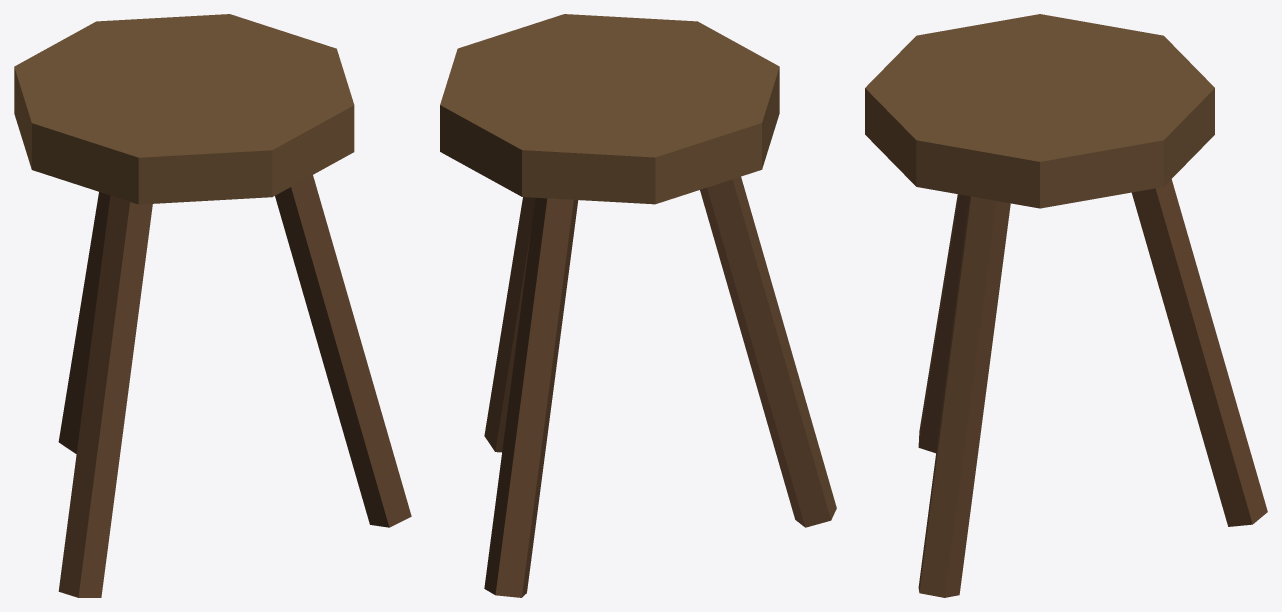
File: Stool.fbx
3 views of the same model, side by side, from view 1: azimuth 30°, elevation 25°; view 2: azimuth 150°, elevation 25°; view 3: azimuth 270°, elevation 25° (orthographic).
Parts seen in each view (by area): view 1: Stool; view 2: Stool; view 3: Stool.
Part boxes in pixels (<box>): Stool: <box>14,14,411,597</box>; Stool: <box>440,14,836,597</box>; Stool: <box>865,14,1267,597</box>.
Size of the model in its own units: 0.3872 by 0.4654 by 0.3913.
